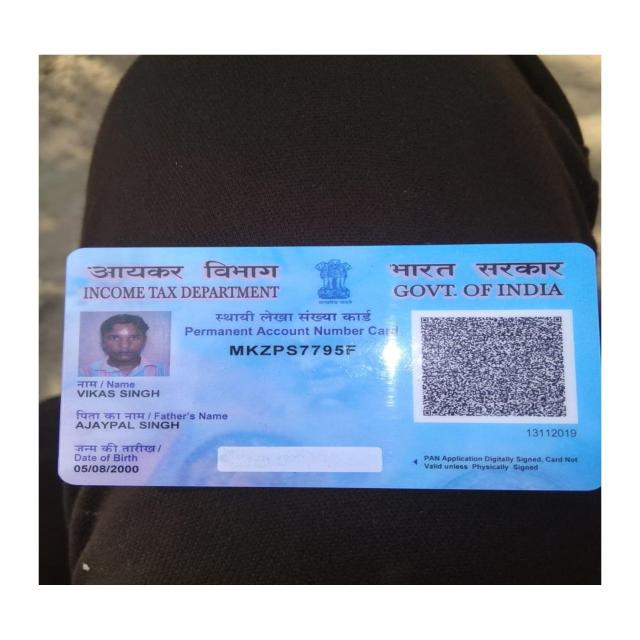pan_card: (59, 250, 603, 490)
